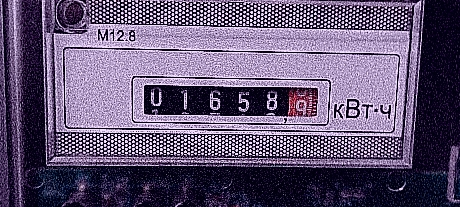0: (149, 85, 162, 107)
1: (179, 88, 189, 110)
5: (236, 89, 250, 112)
6: (207, 88, 221, 110)
8: (264, 88, 278, 110)
9: (292, 97, 306, 118)
screen: (125, 70, 337, 130)
